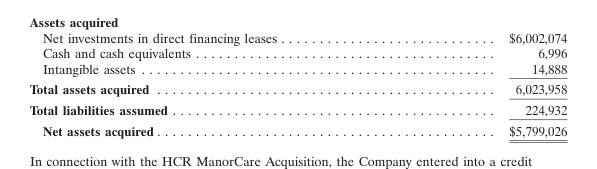table: (28, 29, 566, 137)
table column: (28, 29, 392, 137), (392, 29, 566, 137)
table row: (28, 98, 566, 119), (28, 78, 566, 98), (28, 60, 566, 78), (28, 119, 566, 137), (28, 44, 566, 60), (28, 29, 566, 44)
